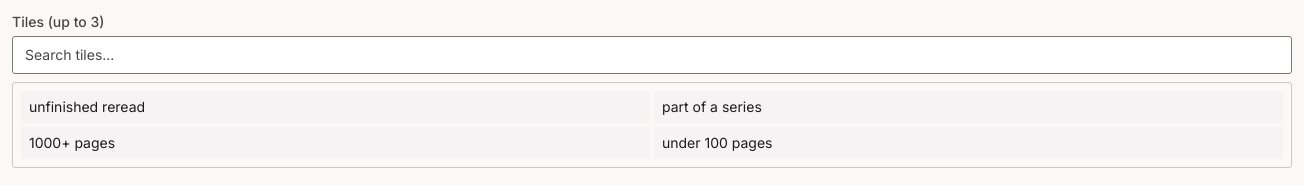
Scenario: TileSelector › search › filters the tile buttons to those whose name matches the term
Type "reread" into the field at {"x": 652, "y": 55}, box [12, 36, 1292, 74]
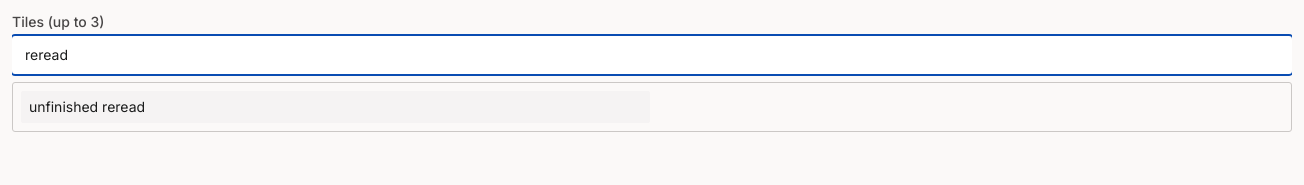
Expected: the button "unfinished reread" is shown, [21, 91, 650, 123]
Expected: the button "part of a series" is gone
